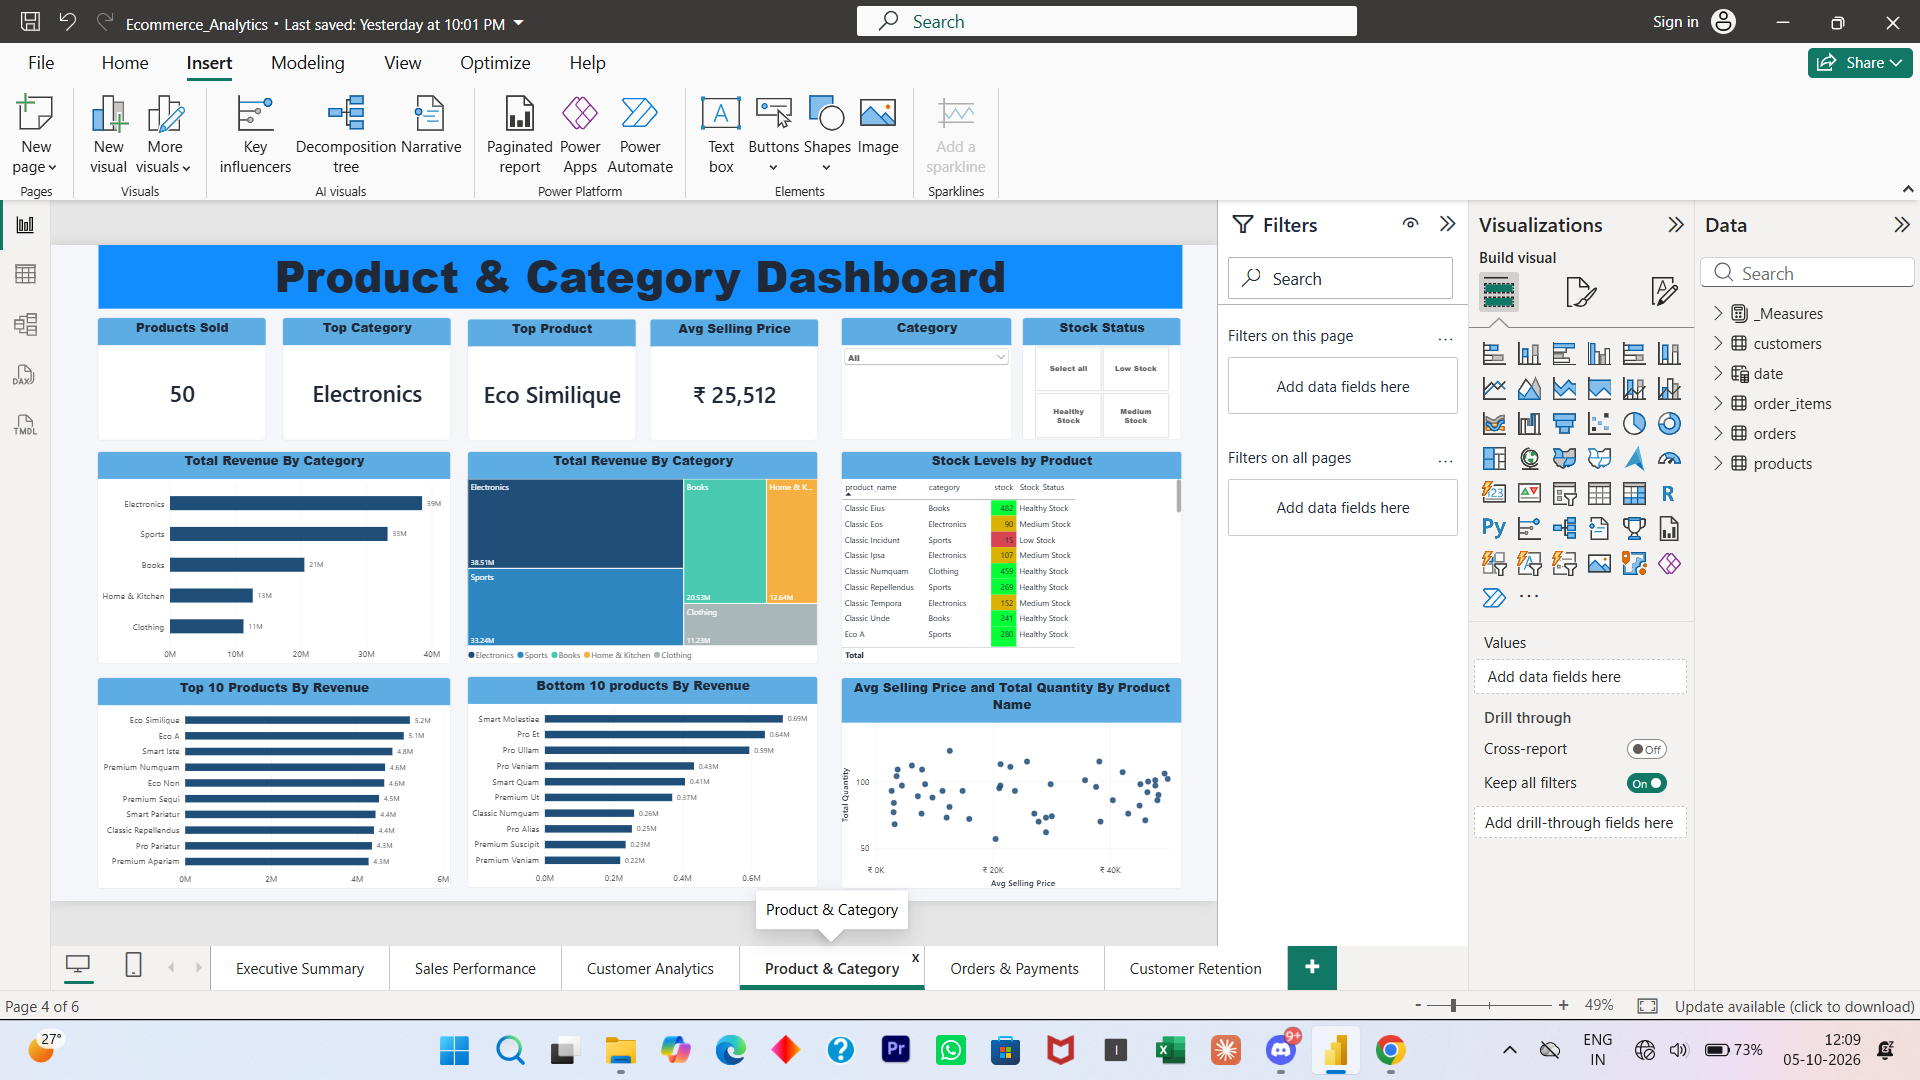

This screenshot's page, from the dashboard's own definition file:
{"tool":"powerbi","page":{"name":"Product & Category","canvas":[1920,1080],"ordinal":3},"visuals":[{"type":"cardVisual","title":"Top Category","fields":{"Data":["_Measures.Top Category"]},"box":[380.8,119.4,278.7,202.7],"z":0},{"type":"cardVisual","title":"Products Sold","fields":{"Data":["_Measures.Products Sold"]},"box":[76.2,119.4,278.7,202.7],"z":1000},{"type":"textbox","title":"Product & Category Dashboard","box":[78.2,0,1784.6,105],"z":2000},{"type":"cardVisual","title":"Top Product","fields":{"Data":["_Measures.Top Product"]},"box":[685.4,121.4,278.3,201.8],"z":3000},{"type":"cardVisual","title":"Avg Selling Price","fields":{"Data":["_Measures.Avg Selling Price"]},"box":[985.9,121.4,278.3,201.8],"z":4000},{"type":"clusteredBarChart","title":"Total Revenue By Category","fields":{"Category":["products.category"],"Y":["_Measures.Total Revenue"]},"box":[76.2,339.6,582.1,350.5],"z":5000},{"type":"treemap","title":"Total Revenue By Category","fields":{"Group":["products.category"],"Values":["_Measures.Total Revenue"]},"box":[685.4,339.6,577.8,350.5],"z":6000},{"type":"clusteredBarChart","title":"Top 10 Products By Revenue","fields":{"Category":["products.product_name"],"Y":["_Measures.Total Revenue"]},"box":[76.2,712.2,582.1,348.4],"z":7000},{"type":"clusteredBarChart","title":"Bottom 10 products By Revenue","fields":{"Category":["products.product_name"],"Y":["_Measures.Total Revenue"]},"box":[685.4,710.1,577.8,348.4],"z":8000},{"type":"tableEx","title":"Stock Levels by Product","fields":{"Values":["products.product_name","products.category","products.stock","products.Stock_Status"]},"box":[1300.9,339.6,561.9,349.9],"z":9000},{"type":"scatterChart","title":"Avg Selling Price and Total Quantity By Product Name","fields":{"Category":["products.product_name"],"X":["_Measures.Avg Selling Price"],"Y":["_Measures.Total Quantity"]},"box":[1300.9,712.2,561.9,347.9],"z":10000},{"type":"slicer","title":"Category","fields":{"Values":["products.category"]},"box":[1300.9,119.4,282,201.7],"z":11000},{"type":"slicer","title":"Stock Status","fields":{"Values":["products.Stock_Status"]},"box":[1599.3,119.4,261.4,201.7],"z":12000}]}

Visuals, with their boxes on the page's 1920x1080 design canvas (x1, y1, x2, y2). These are canvas units, not pixel positions in the 1920x1080 screenshot, which may show the page scaled, cropped or inside an application window:
"Top Category" cardVisual: pyautogui.locateOnScreen(381, 119, 660, 322)
"Products Sold" cardVisual: pyautogui.locateOnScreen(76, 119, 355, 322)
"Product & Category Dashboard" textbox: pyautogui.locateOnScreen(78, 0, 1863, 105)
"Top Product" cardVisual: pyautogui.locateOnScreen(685, 121, 964, 323)
"Avg Selling Price" cardVisual: pyautogui.locateOnScreen(986, 121, 1264, 323)
"Total Revenue By Category" clusteredBarChart: pyautogui.locateOnScreen(76, 340, 658, 690)
"Total Revenue By Category" treemap: pyautogui.locateOnScreen(685, 340, 1263, 690)
"Top 10 Products By Revenue" clusteredBarChart: pyautogui.locateOnScreen(76, 712, 658, 1061)
"Bottom 10 products By Revenue" clusteredBarChart: pyautogui.locateOnScreen(685, 710, 1263, 1058)
"Stock Levels by Product" tableEx: pyautogui.locateOnScreen(1301, 340, 1863, 690)
"Avg Selling Price and Total Quantity By Product Name" scatterChart: pyautogui.locateOnScreen(1301, 712, 1863, 1060)
"Category" slicer: pyautogui.locateOnScreen(1301, 119, 1583, 321)
"Stock Status" slicer: pyautogui.locateOnScreen(1599, 119, 1861, 321)
